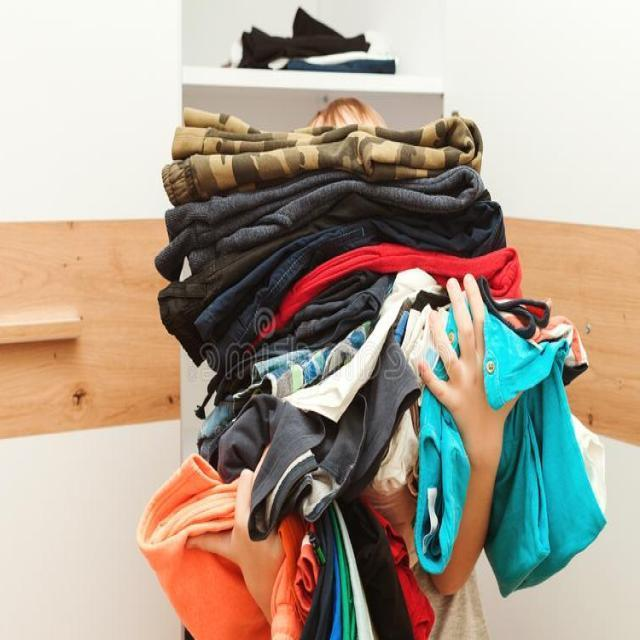clothes: (137, 121, 487, 640)
